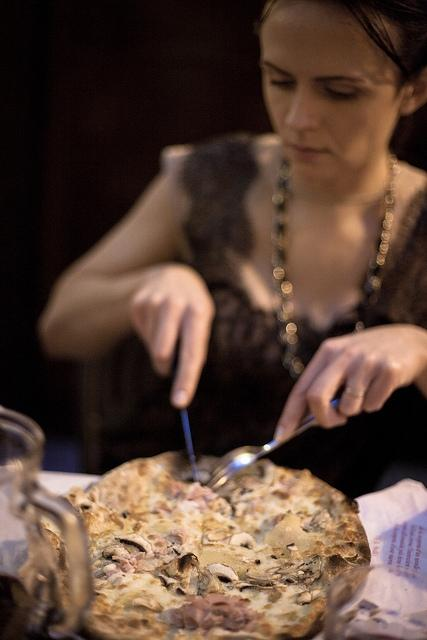mushroom: (160, 552, 198, 588), (202, 531, 256, 550), (276, 555, 321, 576), (204, 512, 240, 534), (207, 562, 241, 584), (115, 532, 152, 552), (248, 458, 274, 486), (199, 566, 223, 595), (234, 582, 287, 592), (332, 542, 358, 562), (280, 570, 312, 586), (102, 545, 130, 563), (209, 498, 232, 518), (244, 570, 282, 580), (309, 509, 327, 527), (164, 533, 186, 546), (245, 578, 275, 587), (175, 582, 194, 596), (76, 500, 98, 512), (296, 590, 312, 606), (196, 468, 210, 484), (302, 523, 320, 533), (103, 564, 117, 574), (286, 542, 298, 552), (320, 556, 327, 570), (229, 494, 237, 504), (122, 512, 132, 518)
